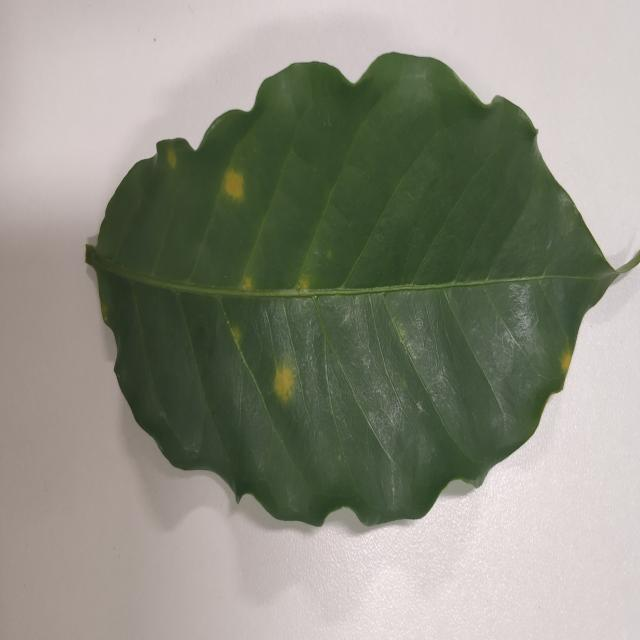Enfermedad-Roya: (84, 52, 623, 531)
